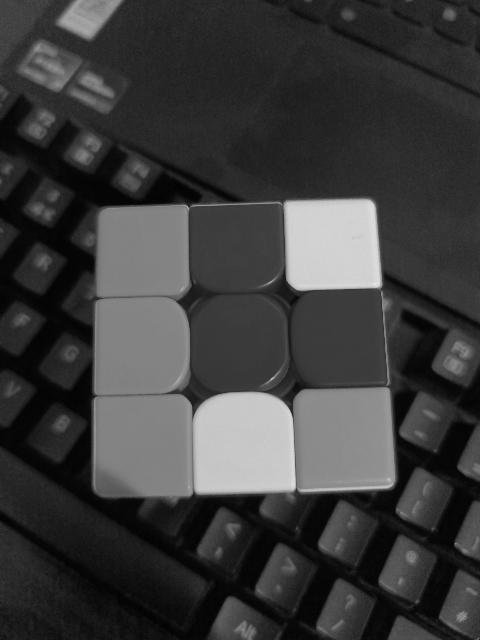rubik: (90, 197, 398, 498)
